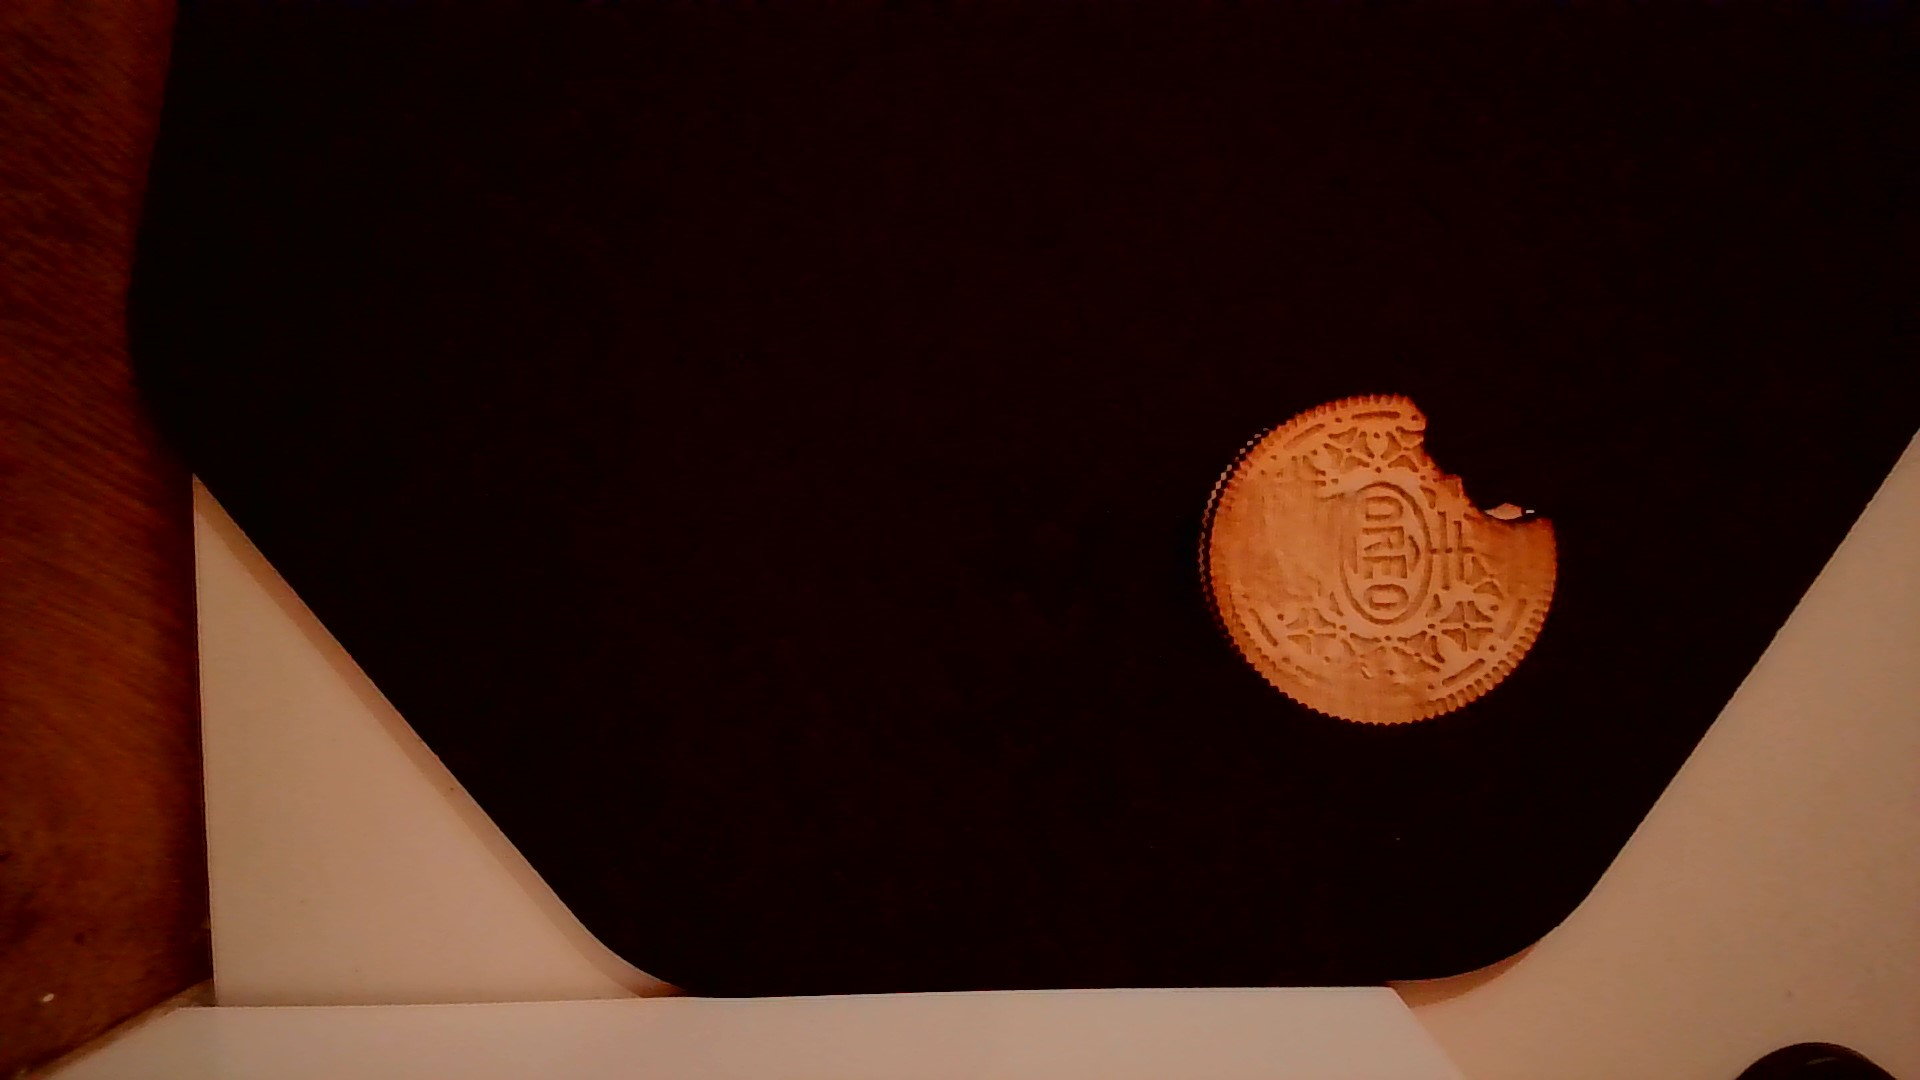Effacé: (1220, 454, 1328, 616), (1294, 653, 1439, 717), (1476, 522, 1551, 618)
Mangé: (1393, 382, 1556, 546)
Oréo: (1185, 382, 1564, 737)
